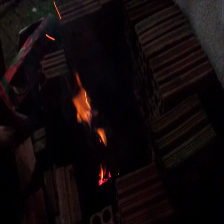fire_h: (73, 74, 92, 124)
fire_l: (98, 167, 111, 186), (97, 127, 107, 144), (52, 1, 61, 19), (46, 33, 55, 41)
